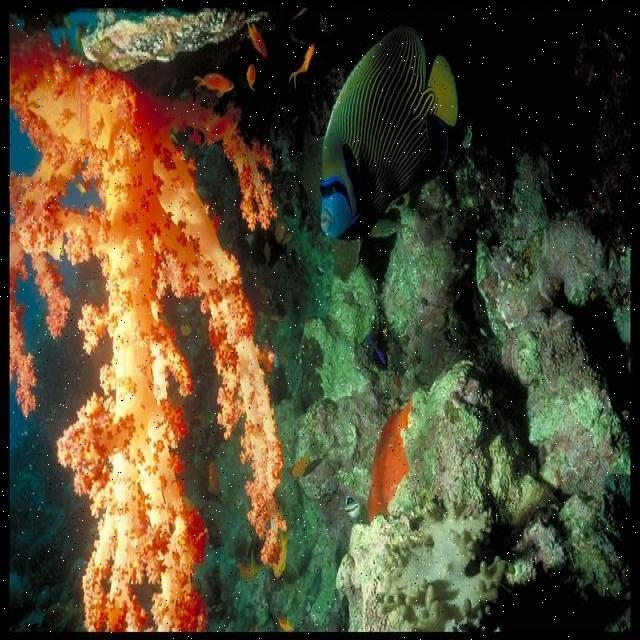fish: (322, 27, 458, 238), (194, 72, 234, 100), (288, 45, 313, 84), (249, 23, 269, 54), (244, 65, 255, 88)
reefs: (7, 14, 288, 632)
